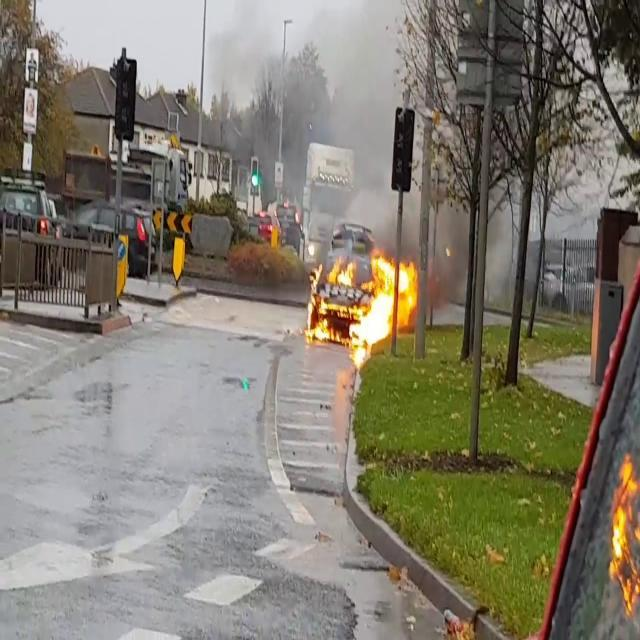Fire: (305, 244, 418, 354), (607, 450, 640, 616)
Smoke: (228, 0, 406, 233)
